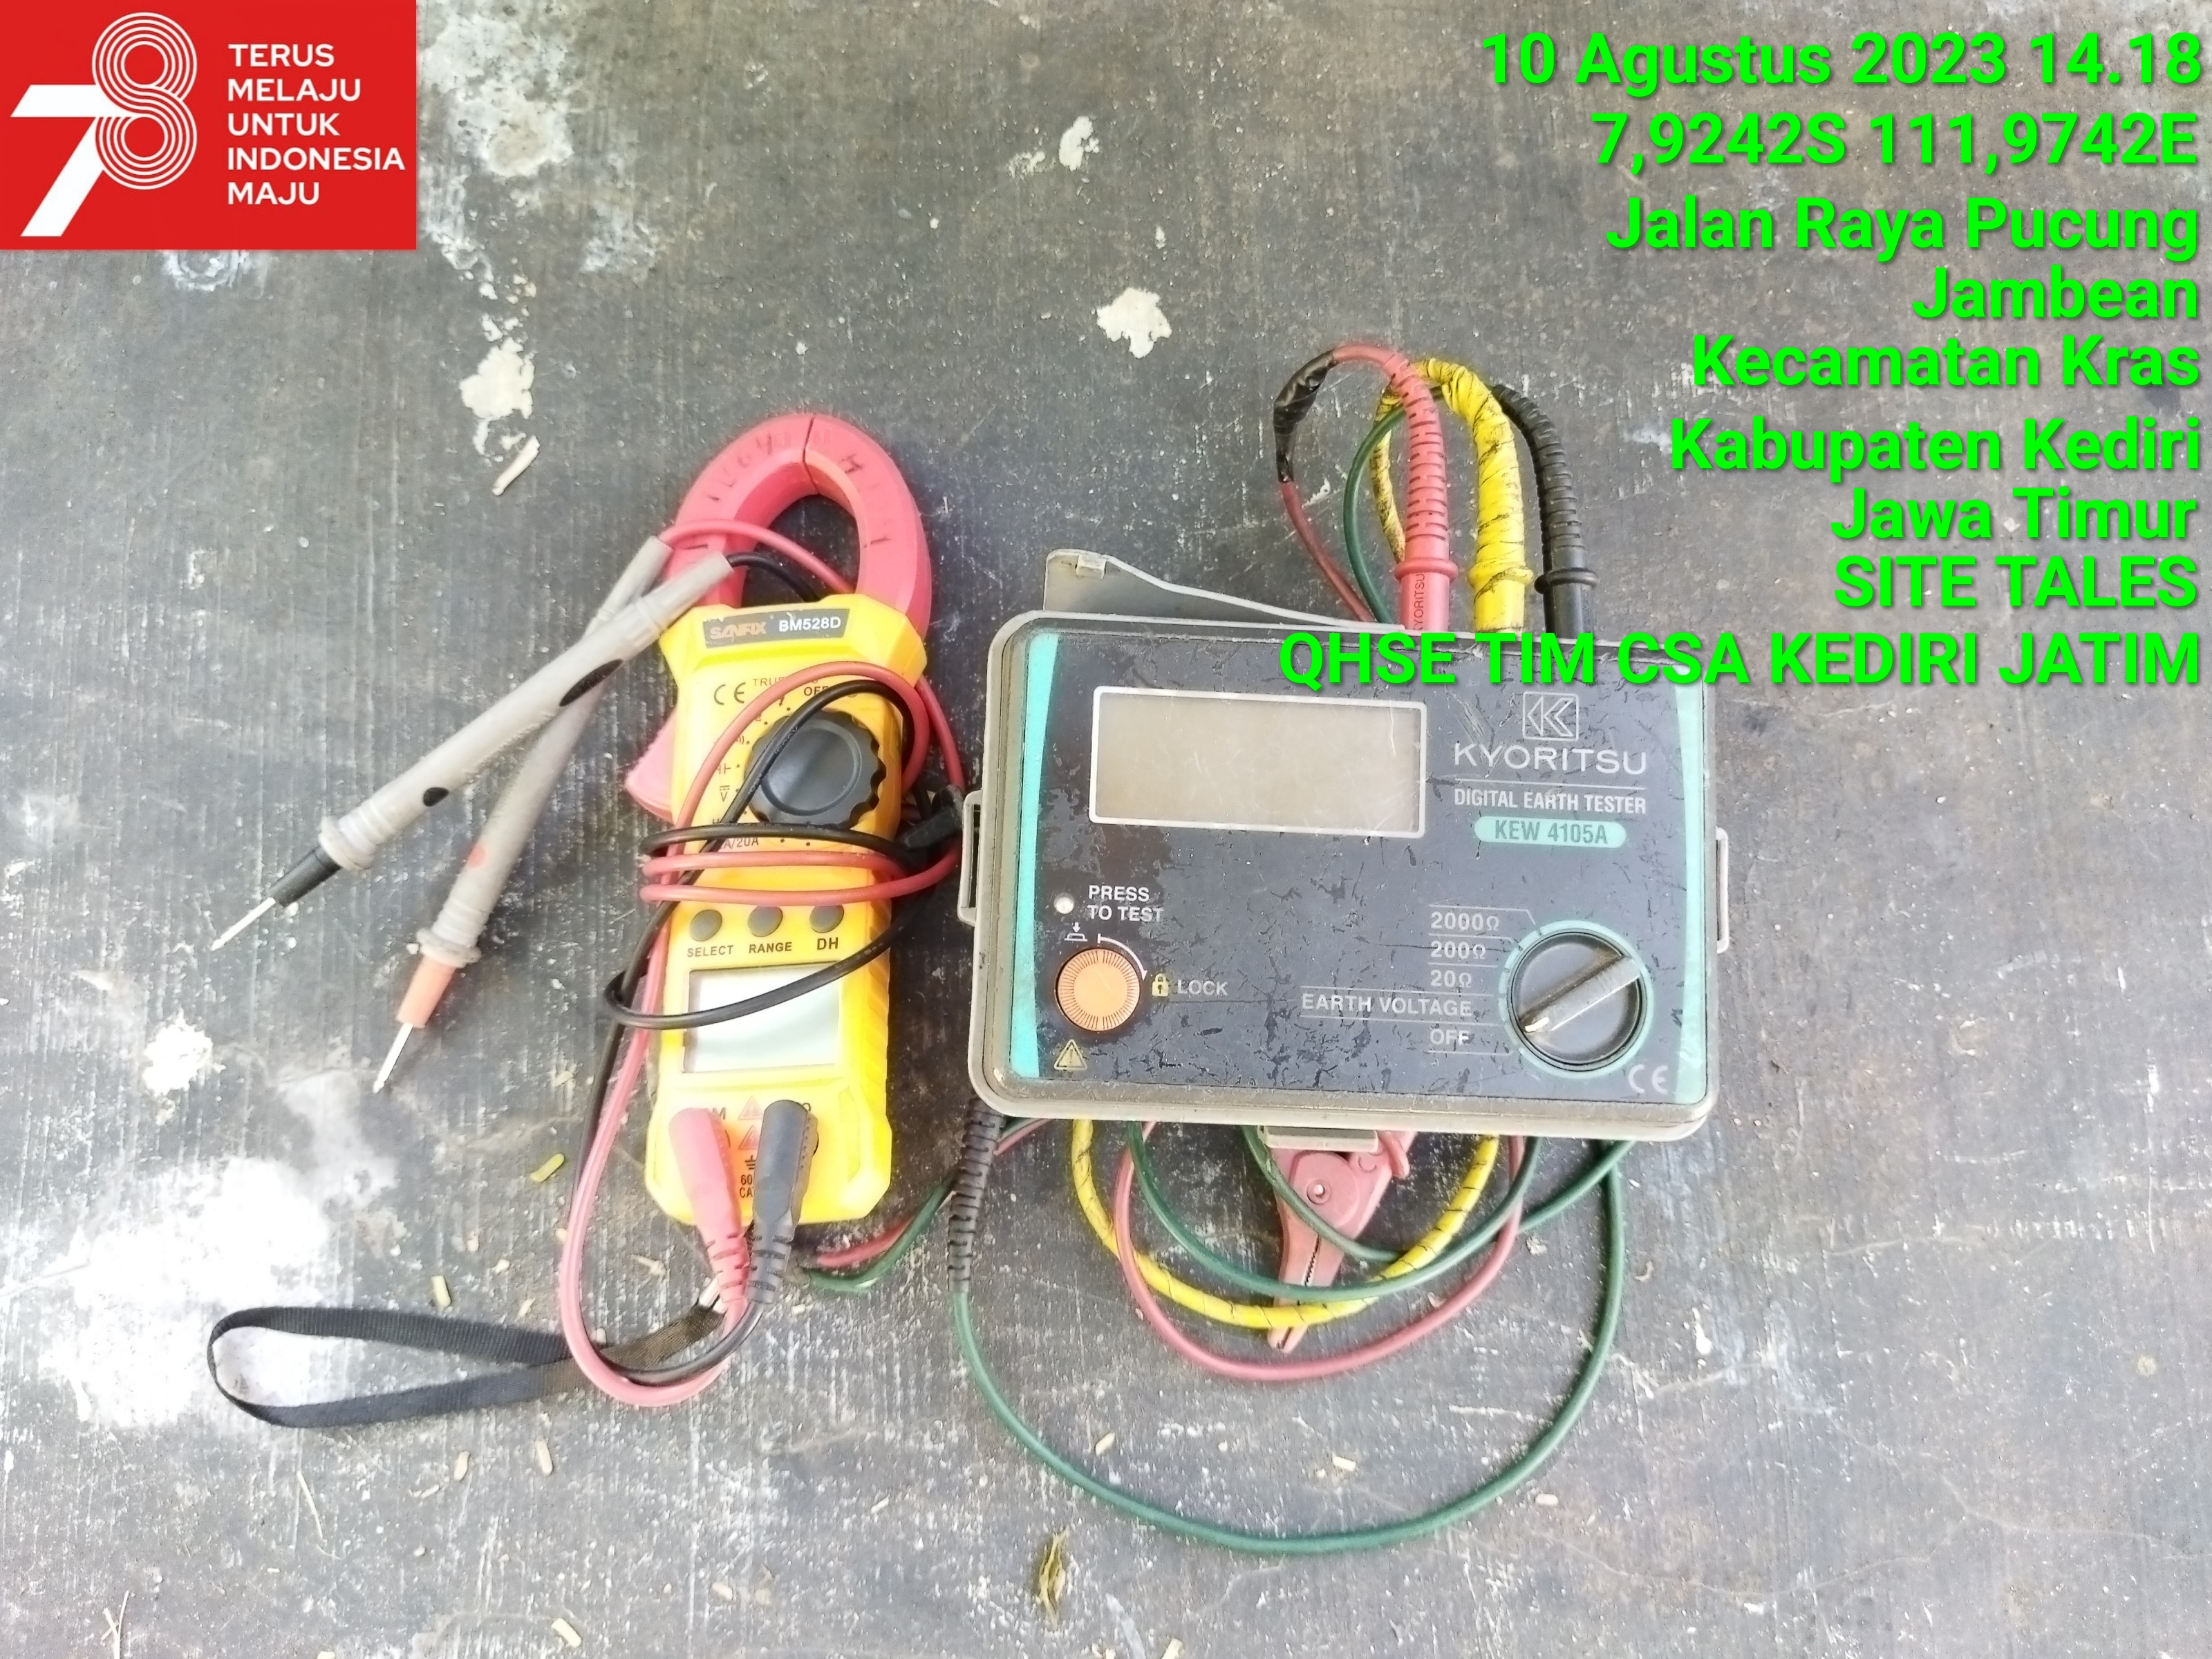EARTH_GROUNDING_TESTER: (965, 545, 1731, 1127)
TANG_AMPERE: (624, 404, 925, 1248)
